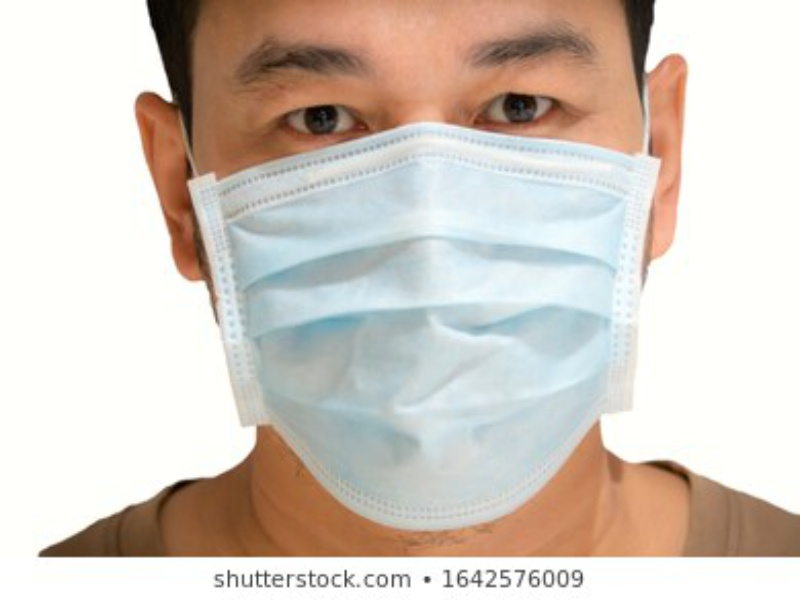ManaoArotava: (115, 1, 729, 556)
